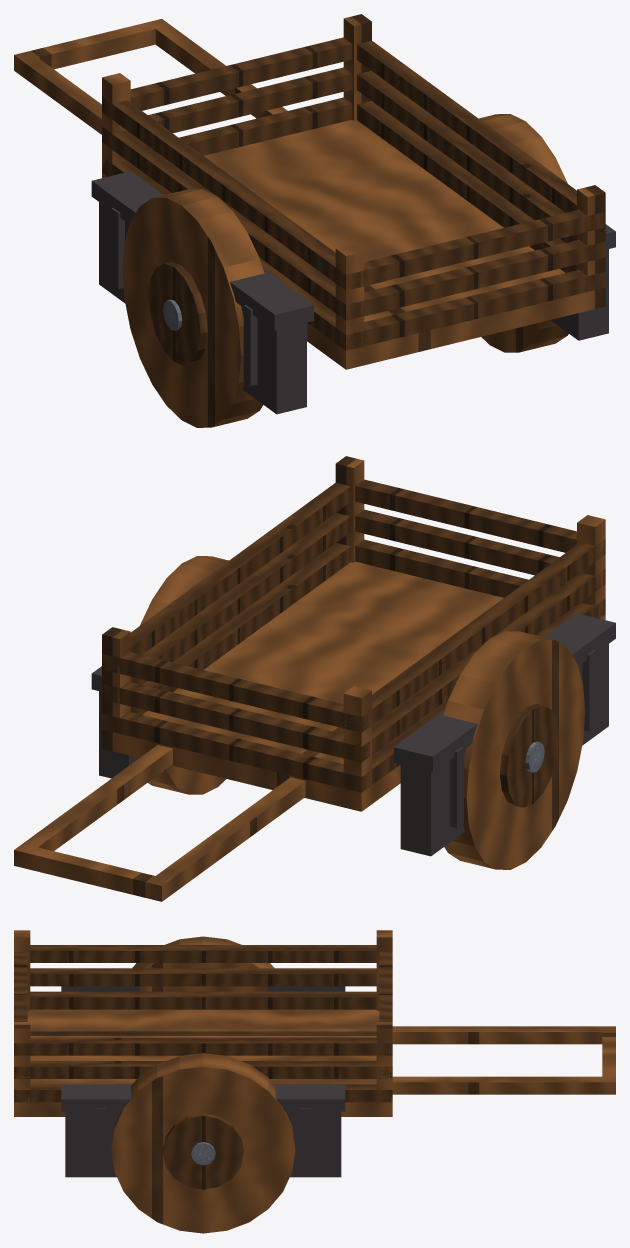
The model's file is holzwagen_t1_bags.fbx.
3 views of the same model, one above another, from view 1: azimuth 30°, elevation 25°; view 2: azimuth 150°, elevation 25°; view 3: azimuth 270°, elevation 25° (orthographic). The views are drawn at different scales.
Parts seen in each view (by area): view 1: Holzwagen_T1; view 2: Holzwagen_T1; view 3: Holzwagen_T1.
Boxes of the visible parts, x1,y1,x2,y2 form: Holzwagen_T1: (14, 14, 615, 427); Holzwagen_T1: (14, 456, 615, 901); Holzwagen_T1: (14, 930, 615, 1233).
Size of the model in its own units: 121 by 77 by 222.
